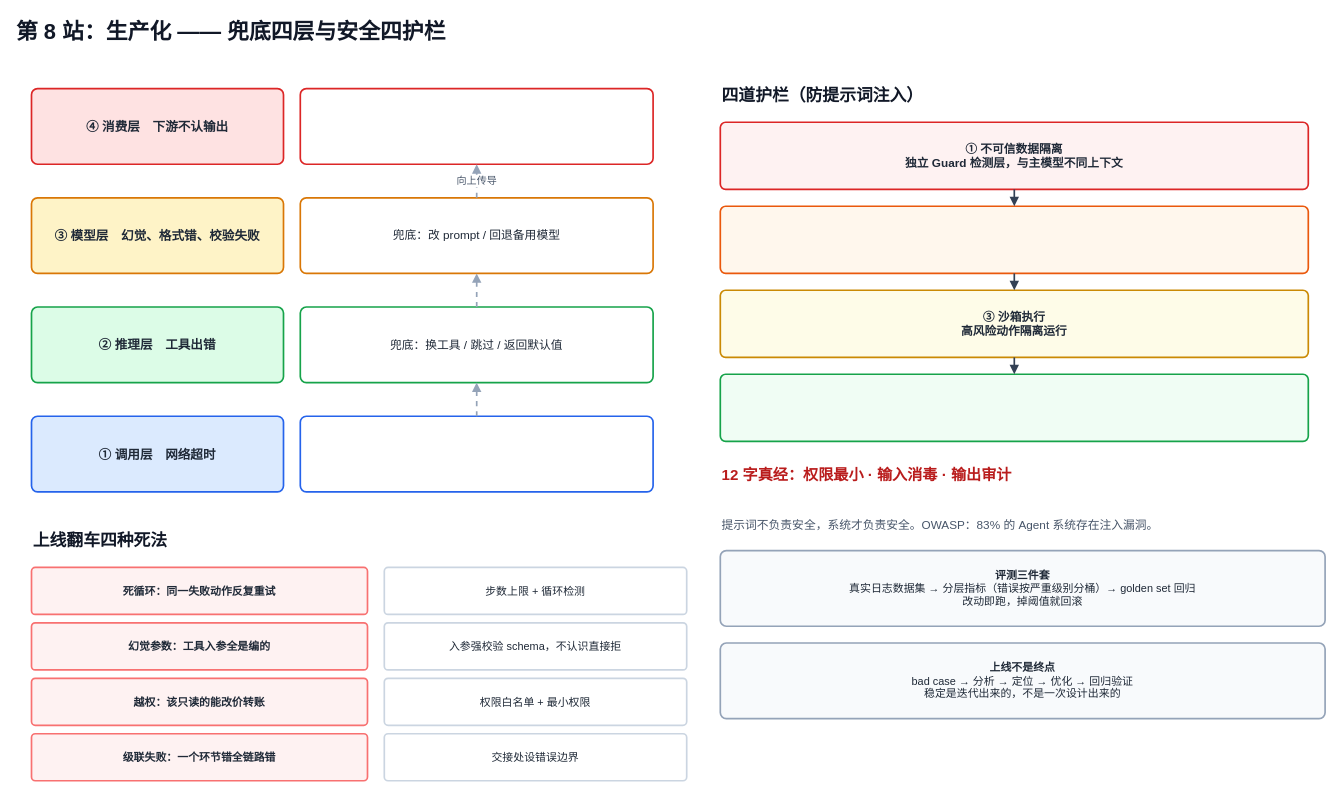
This 1340x795 diagram has some shape labels left out. The centre of each missing label's shape, as x and y in pixels:
② 最小权限 按任务给权限；只读订单就别给改价: point 1014,239
④ 高风险操作人工确认 大额退款必须人点头: point 1014,407
兜底：适配层 / 告警 / 转人工: point 476,126
兜底：重试 / 熔断 / 降级: point 476,453
